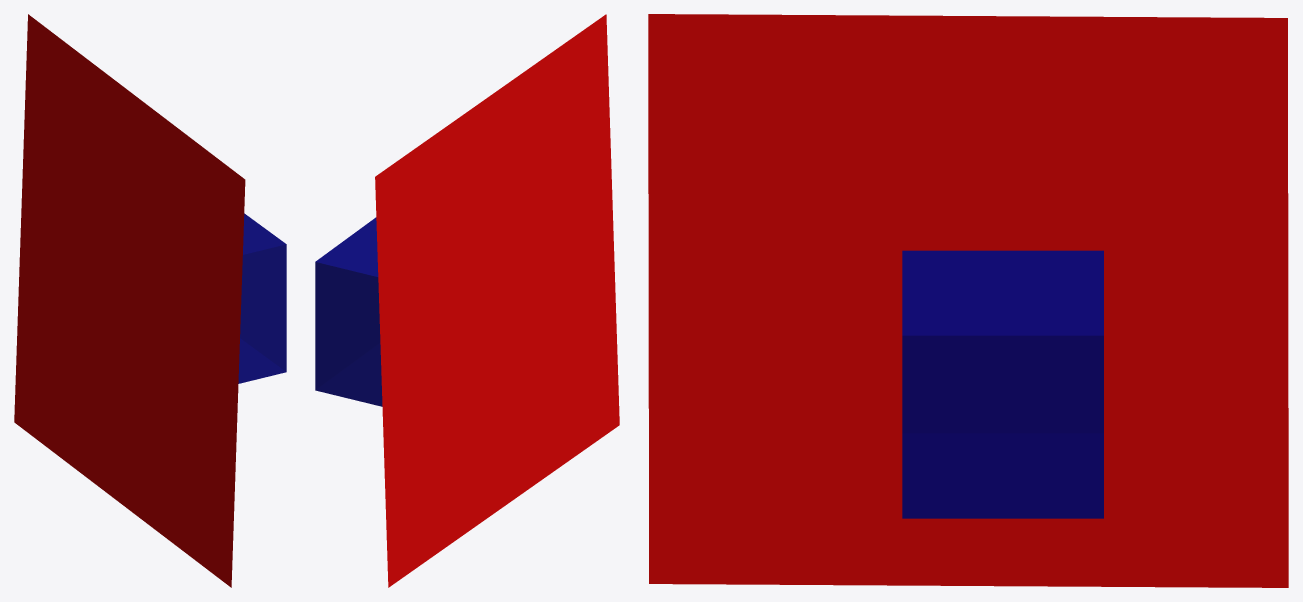
File: transparent.obj
3 renders of one model, left to right at view 1: azimuth 30°, elevation 25°; view 2: azimuth 150°, elevation 25°; view 3: azimuth 270°, elevation 25°, orthographic. The views are drawn at different scales.
Visible parts, largest first — view 1: Plane, Cube.004; view 2: Plane, Cube.004; view 3: Plane, Cube.004.
Boxes of the visible parts, <box> form: Plane: <box>14,14,245,587</box>; Cube.004: <box>238,213,286,383</box>; Plane: <box>375,14,619,587</box>; Cube.004: <box>315,217,382,406</box>; Plane: <box>648,14,1288,587</box>; Cube.004: <box>902,250,1103,518</box>.
Bounding box in the file's own units: 1.05 × 2.84 × 2.84.
